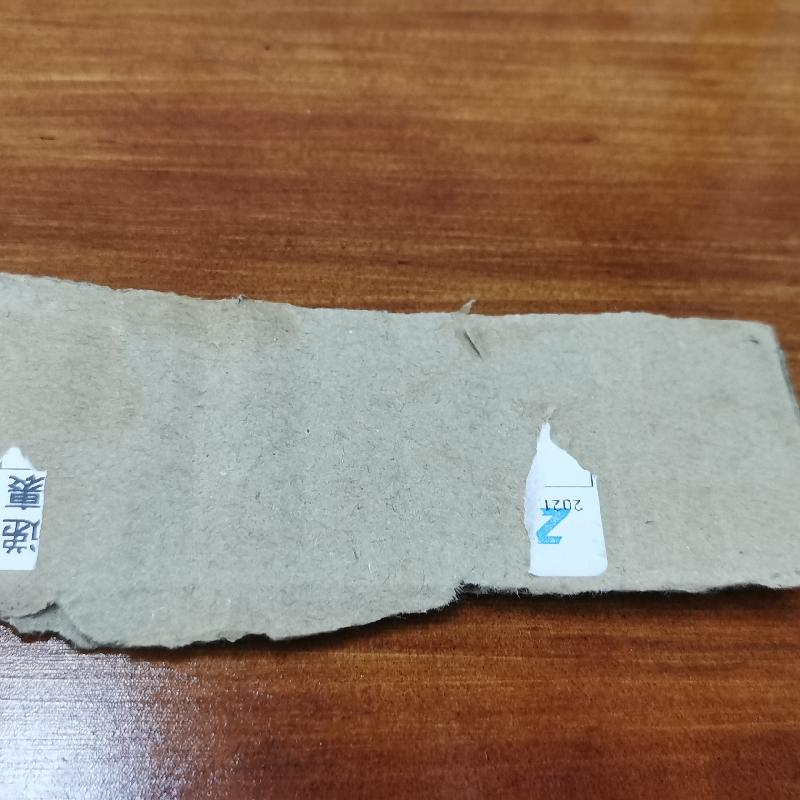boxes: (0, 258, 799, 655)
